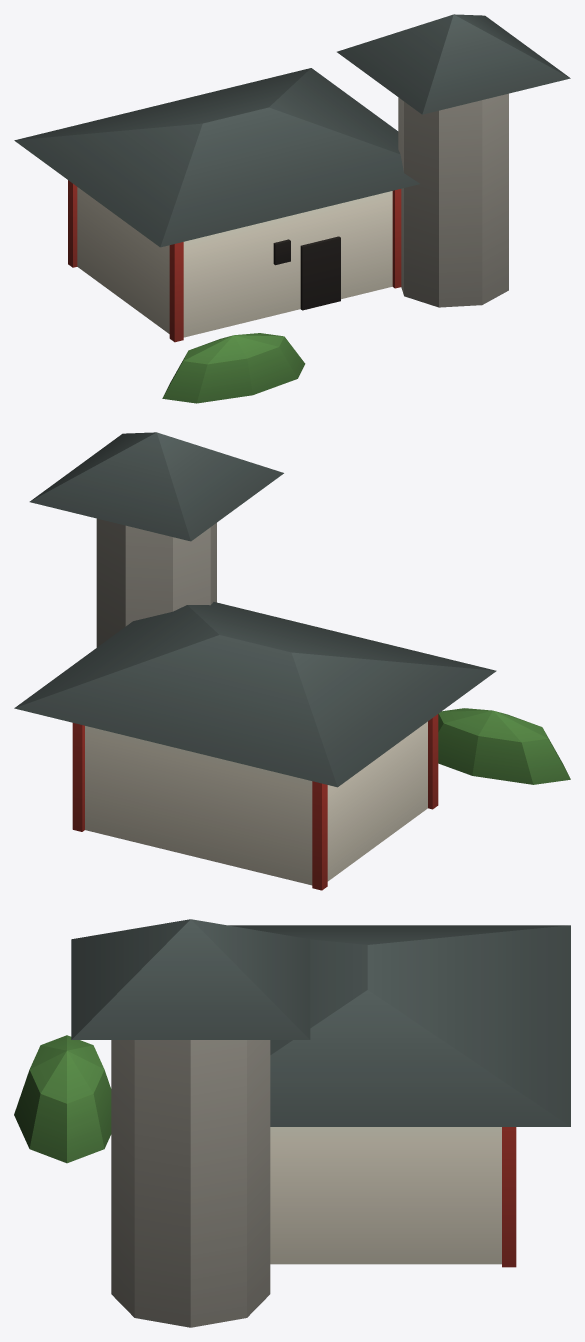
The model's file is SPY_EA.glb.
The picture shows the model from 3 angles, top to bottom: view 1: azimuth 30°, elevation 25°; view 2: azimuth 150°, elevation 25°; view 3: azimuth 270°, elevation 25°; orthographic projection. The views are drawn at different scales.
Visible parts, largest first — view 1: Body; view 2: Body; view 3: Body.
Boxes of the visible parts, x1,y1,x2,y2 form: Body: (14,14,570,403); Body: (14,432,570,890); Body: (14,919,570,1327).
Size of the model in its own units: 3.72 by 2.34 by 3.15.
Materials: 1 (1 with a texture image).
